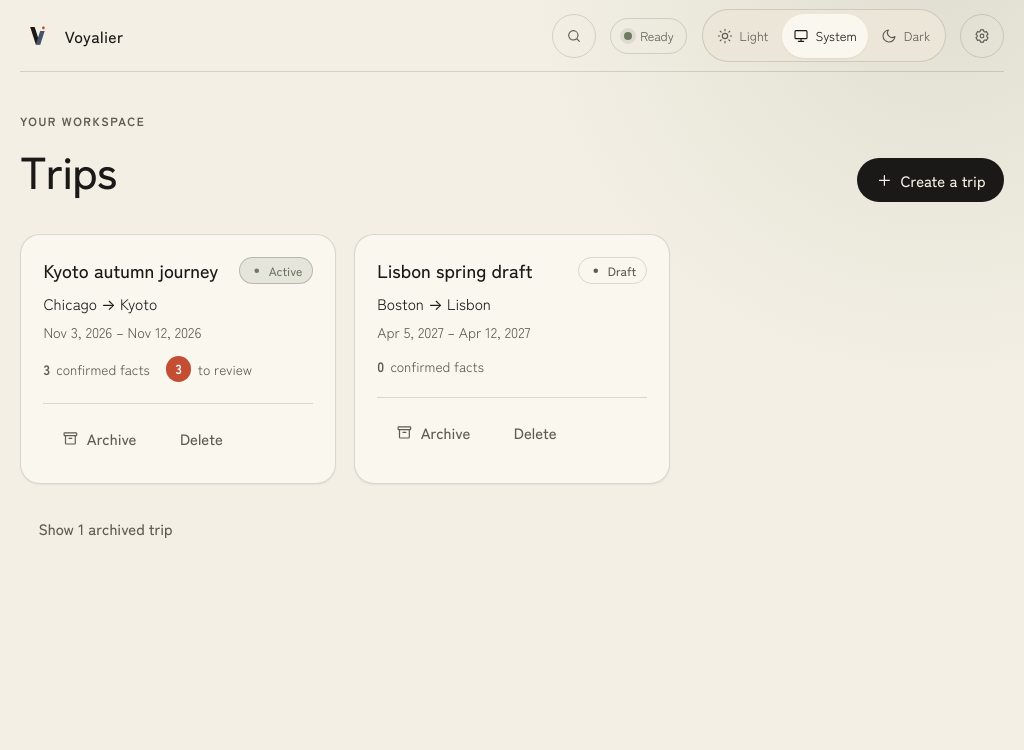
Scenario: imported documents › warns what a deletion takes with it before taking it
This screenshot has width=1024, height=750.
Click the button with aria-label "Open Kyoto autumn journey".
click(131, 270)  # box [43,257,218,283]
(page scrolled)
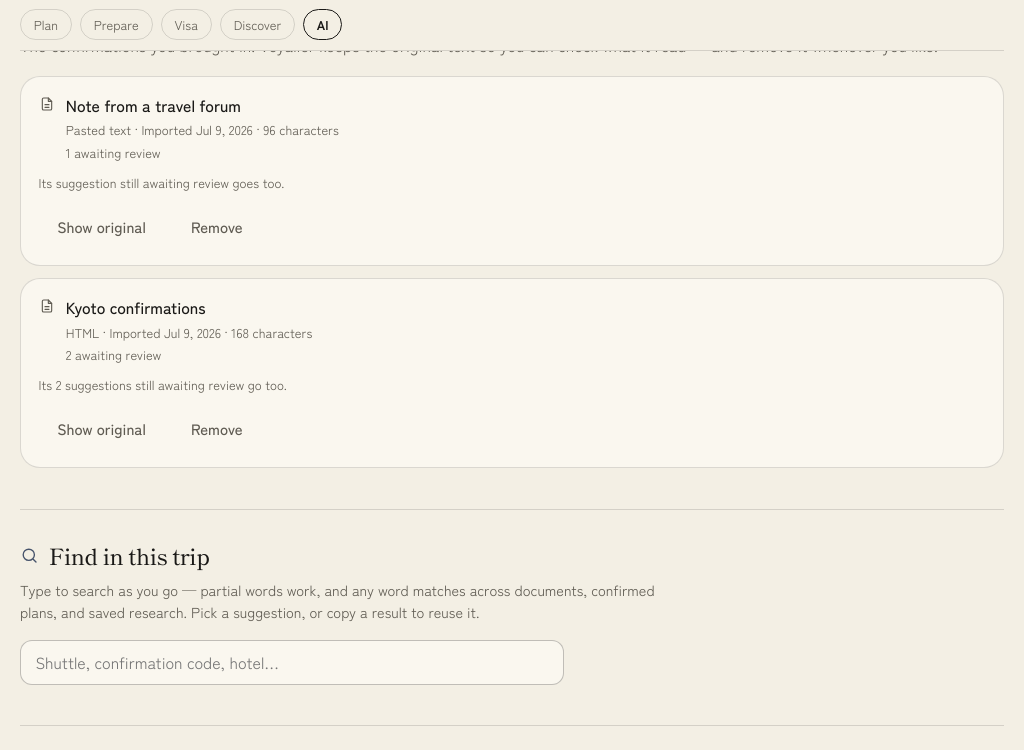
Expected: the text "Its 2 suggestions still awaiting review go too." is shown, [39,375,287,394]
